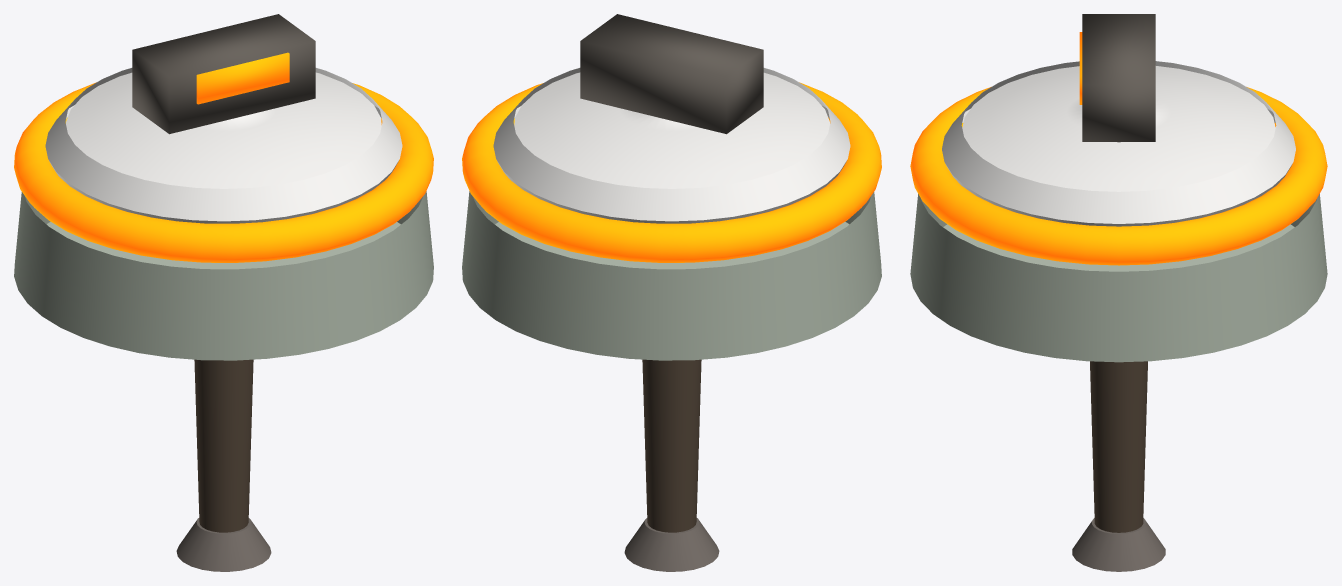
File: poi-transit.glb
3 renders of one model, left to right at view 1: azimuth 30°, elevation 25°; view 2: azimuth 150°, elevation 25°; view 3: azimuth 270°, elevation 25°, orthographic.
Parts seen in each view (by area): view 1: transit_head, transit_plate_dome, transit_ring, transit_plate_bevel, transit_body, transit_stem, transit_foot, transit_win, transit_collar, transit_plate_wall; view 2: transit_head, transit_plate_dome, transit_ring, transit_body, transit_plate_bevel, transit_stem, transit_foot, transit_collar, transit_plate_wall; view 3: transit_head, transit_plate_dome, transit_ring, transit_plate_bevel, transit_body, transit_stem, transit_foot, transit_collar, transit_plate_wall.
Boxes of the visible parts, <box> form: transit_head: <box>14,191,433,360</box>; transit_plate_dome: <box>66,72,381,188</box>; transit_ring: <box>14,82,433,262</box>; transit_plate_bevel: <box>45,68,402,221</box>; transit_body: <box>132,14,315,134</box>; transit_stem: <box>194,359,253,532</box>; transit_foot: <box>176,518,271,571</box>; transit_win: <box>196,52,289,104</box>; transit_collar: <box>136,255,311,269</box>; transit_plate_wall: <box>49,105,398,223</box>; transit_head: <box>462,191,881,360</box>; transit_plate_dome: <box>514,72,829,188</box>; transit_ring: <box>462,82,881,262</box>; transit_body: <box>580,14,763,134</box>; transit_plate_bevel: <box>493,68,850,221</box>; transit_stem: <box>642,359,701,532</box>; transit_foot: <box>624,518,719,571</box>; transit_collar: <box>584,255,759,269</box>; transit_plate_wall: <box>497,105,846,223</box>; transit_head: <box>910,194,1327,362</box>; transit_plate_dome: <box>962,66,1275,191</box>; transit_ring: <box>910,87,1327,265</box>; transit_plate_bevel: <box>942,61,1295,223</box>; transit_body: <box>1082,14,1155,141</box>; transit_stem: <box>1090,361,1147,532</box>; transit_foot: <box>1072,518,1165,571</box>; transit_collar: <box>1031,257,1206,271</box>; transit_plate_wall: <box>946,109,1291,226</box>.
Bounding box in the file's own units: 0.796 × 1.06 × 0.796.
